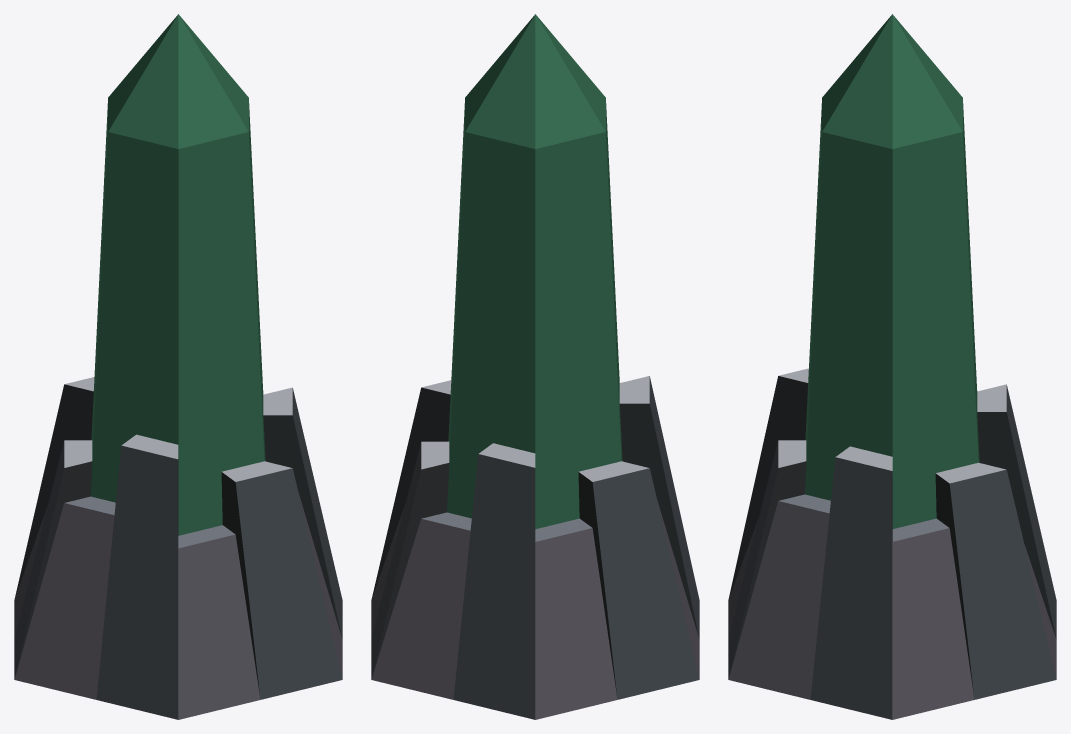
The model's file is TB_Str_Crystal_D.FBX.
The picture shows the model from 3 angles, left to right: view 1: azimuth 30°, elevation 25°; view 2: azimuth 150°, elevation 25°; view 3: azimuth 270°, elevation 25°; orthographic projection.
Visible parts, largest first — view 1: TB_Str_Crystal_D; view 2: TB_Str_Crystal_D; view 3: TB_Str_Crystal_D.
Boxes of the visible parts, x1=… form: TB_Str_Crystal_D: x1=14, y1=14, x2=342, y2=719; TB_Str_Crystal_D: x1=371, y1=14, x2=699, y2=719; TB_Str_Crystal_D: x1=728, y1=14, x2=1056, y2=719.
Bounding box in the file's own units: 2.24 × 4.09 × 1.94.
